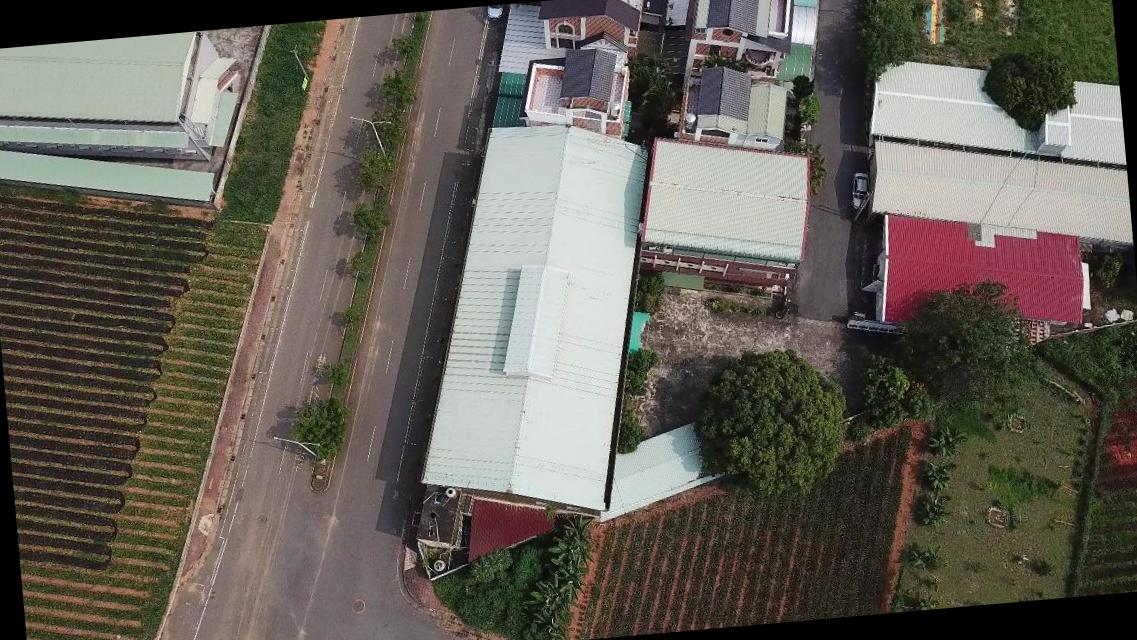vehicle: (850, 168, 871, 214)
